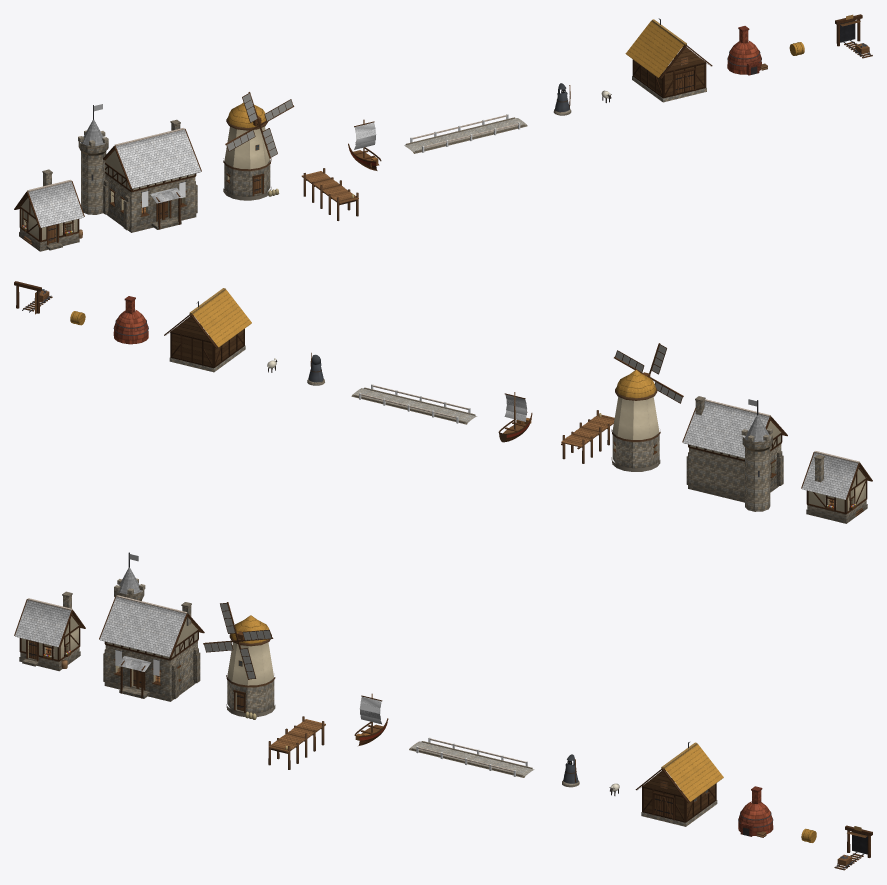
The model's file is village.glb.
3 renders of one model, top to bottom at view 1: azimuth 30°, elevation 25°; view 2: azimuth 150°, elevation 25°; view 3: azimuth 330°, elevation 25°, orthographic.
Parts seen in each view (by area): view 1: Hall, Barn, Cottage, Mill, Road, Dock, Sails, Kiln, Boat, Mine; view 2: Hall, Barn, Mill, Cottage, Road, Dock, Kiln, Boat, Sails, Mine; view 3: Hall, Barn, Cottage, Mill, Road, Dock, Sails, Kiln, Boat, Mine.
Boxes of the visible parts, x1=… form: Hall: x1=78, y1=104, x2=201, y2=232; Barn: x1=625, y1=18, x2=712, y2=102; Cottage: x1=14, y1=169, x2=84, y2=251; Mill: x1=223, y1=102, x2=279, y2=200; Road: x1=404, y1=114, x2=527, y2=153; Dock: x1=301, y1=168, x2=358, y2=220; Sails: x1=225, y1=92, x2=294, y2=158; Kiln: x1=727, y1=26, x2=767, y2=75; Boat: x1=348, y1=119, x2=381, y2=170; Mine: x1=835, y1=14, x2=872, y2=58; Hall: x1=682, y1=396, x2=787, y2=511; Barn: x1=164, y1=288, x2=251, y2=372; Mill: x1=611, y1=370, x2=660, y2=471; Cottage: x1=801, y1=451, x2=872, y2=523; Road: x1=351, y1=384, x2=476, y2=424; Dock: x1=561, y1=410, x2=614, y2=463; Kiln: x1=113, y1=296, x2=148, y2=344; Boat: x1=498, y1=392, x2=532, y2=442; Sails: x1=614, y1=343, x2=683, y2=403; Mine: x1=14, y1=281, x2=52, y2=314; Hall: x1=99, y1=552, x2=204, y2=701; Barn: x1=635, y1=741, x2=723, y2=826; Cottage: x1=14, y1=591, x2=85, y2=671; Mill: x1=226, y1=615, x2=275, y2=719; Road: x1=409, y1=737, x2=534, y2=777; Dock: x1=268, y1=716, x2=325, y2=769; Sails: x1=203, y1=602, x2=273, y2=679; Kiln: x1=738, y1=786, x2=773, y2=837; Boat: x1=354, y1=693, x2=388, y2=745; Mine: x1=834, y1=825, x2=872, y2=870.
Bounding box in the file's own units: 103 × 14.96 × 13.24.
7 materials, 5 textured.
